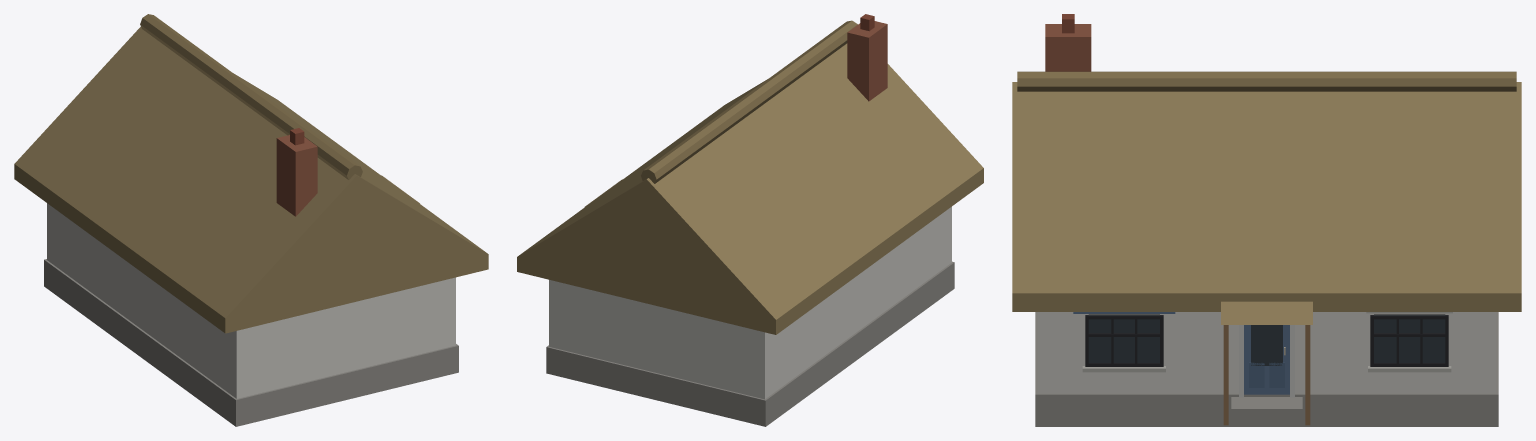
Rendered from SM_Prop_cafe_building_7.glb.
3 views of the same model, side by side, from view 1: azimuth 30°, elevation 25°; view 2: azimuth 150°, elevation 25°; view 3: azimuth 270°, elevation 25° (orthographic). The views are drawn at different scales.
Visible parts, largest first — view 1: SM_Prop_cafe_building_7; view 2: SM_Prop_cafe_building_7; view 3: SM_Prop_cafe_building_7.
Part boxes in pixels (x1,y1,x2,y2): SM_Prop_cafe_building_7: [14, 14, 488, 426]; SM_Prop_cafe_building_7: [517, 14, 983, 426]; SM_Prop_cafe_building_7: [1012, 14, 1521, 426].
Bounding box in the file's own units: 7.7 × 7 × 10.
